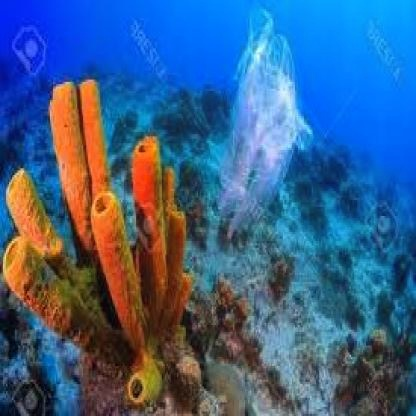pbag: (215, 2, 313, 248)
